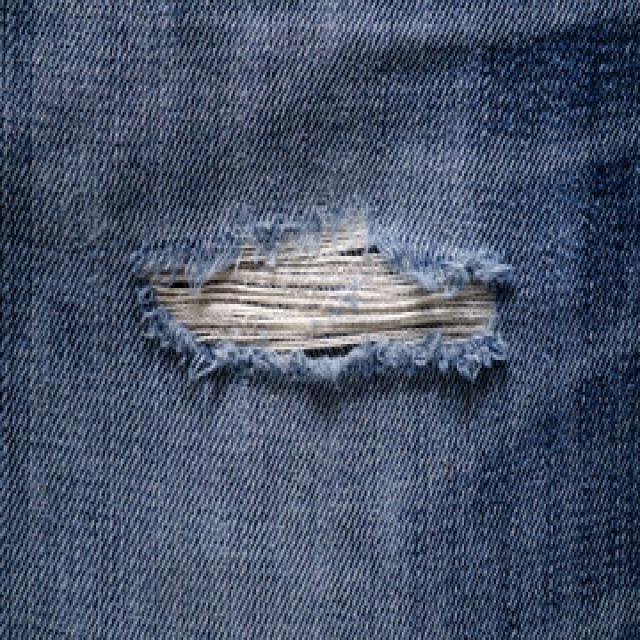Hole: (132, 206, 513, 379)
